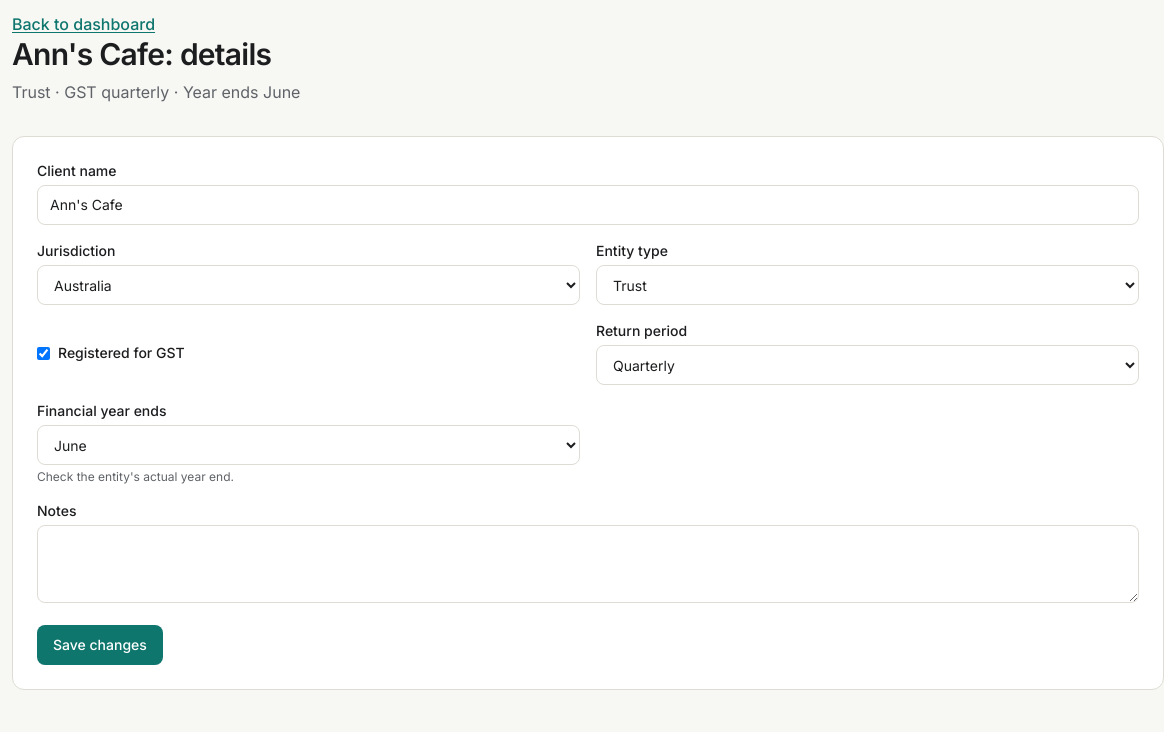
Test: EntitySettings › shows the entity and saves edits
Expected: the heading "Ann's Cafe: details" is shown, [12, 36, 271, 72]
Expected: the text "Trust · GST quarterly · Year ends June" is shown, [12, 82, 300, 102]
Click the button "Save changes" at (100,645), box [37, 625, 163, 665]
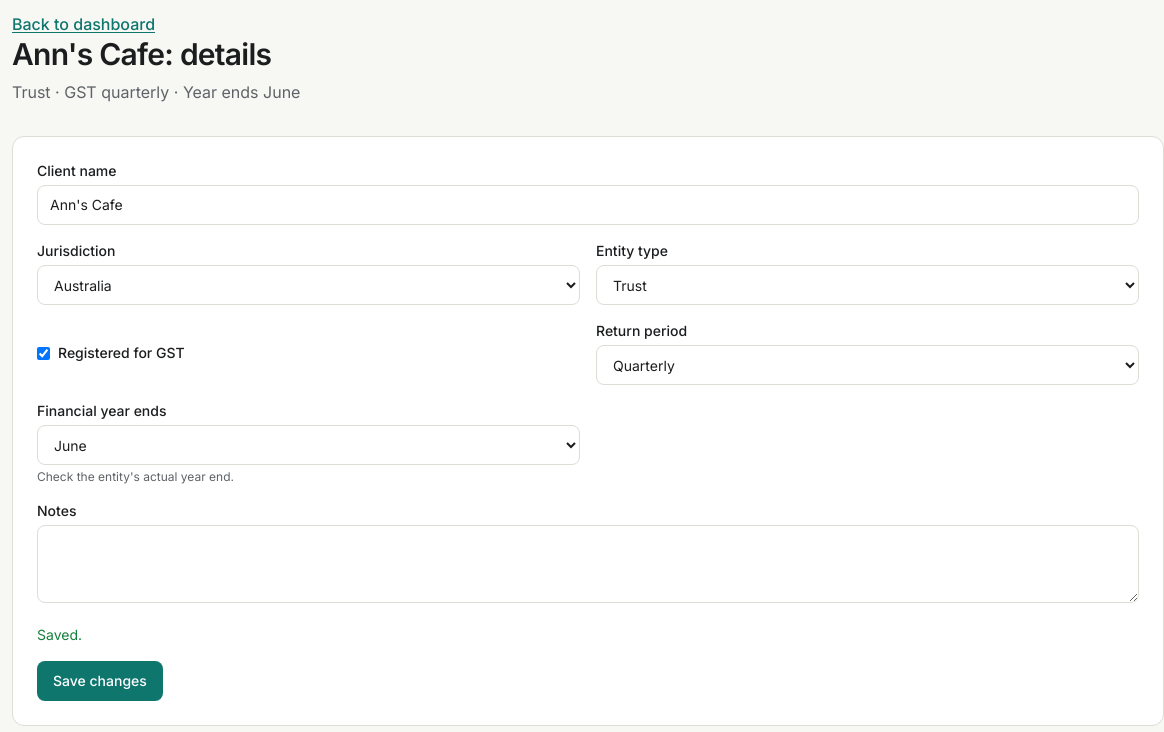
Expected: the text "Saved." is shown, [37, 626, 82, 643]
